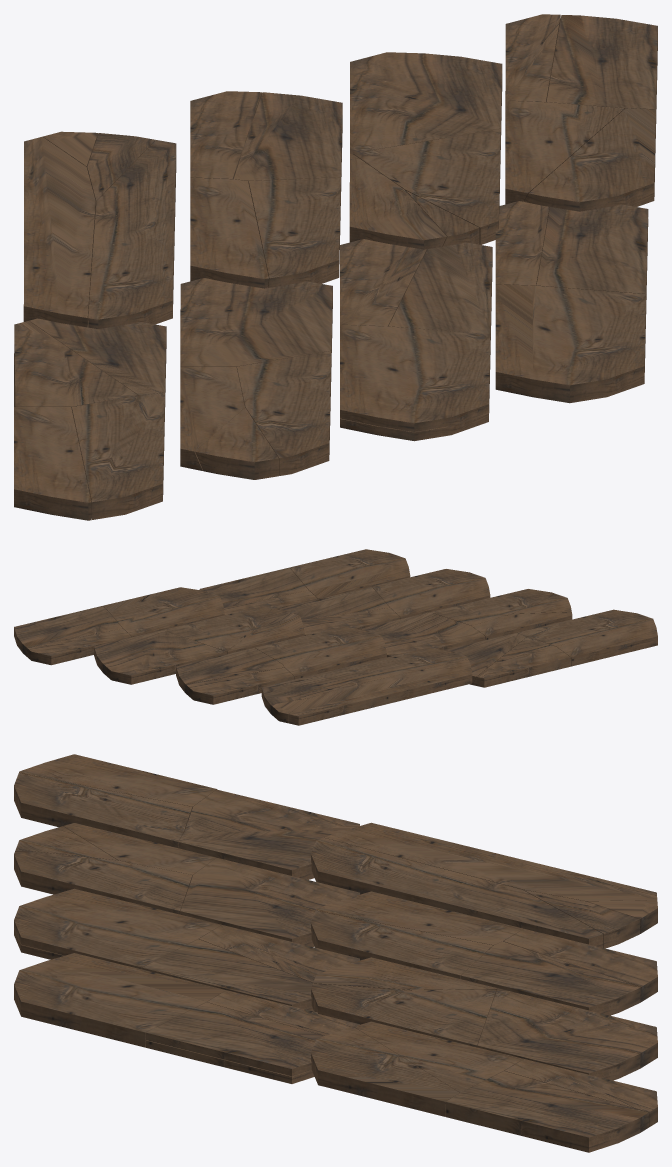
Rendered from BreakableFloorFracture.fbx.
3 views of the same model, one above another, from view 1: azimuth 30°, elevation 25°; view 2: azimuth 150°, elevation 25°; view 3: azimuth 270°, elevation 25° (orthographic). The views are drawn at different scales.
Visible parts, largest first — view 1: WoodenPlank__16__cell.001, WoodenPlank__15__cell.003, WoodenPlank__21__cell.003, WoodenPlank__18__cell.002, WoodenPlank__14__cell, WoodenPlank__21__cell, WoodenPlank__20__cell.002, WoodenPlank__19__cell.001, WoodenPlank__18__cell, WoodenPlank__16__cell.003, WoodenPlank__17__cell, WoodenPlank__14__cell.002 (+19 smaller); view 2: WoodenPlank__21__cell, WoodenPlank__18__cell.002, WoodenPlank__16__cell.001, WoodenPlank__15__cell.003, WoodenPlank__21__cell.003, WoodenPlank__14__cell, WoodenPlank__19__cell.001, WoodenPlank__20__cell.003, WoodenPlank__20__cell, WoodenPlank__18__cell, WoodenPlank__17__cell.003, WoodenPlank__16__cell.003 (+18 smaller); view 3: WoodenPlank__16__cell.001, WoodenPlank__21__cell.003, WoodenPlank__18__cell.002, WoodenPlank__15__cell.003, WoodenPlank__19__cell.001, WoodenPlank__14__cell, WoodenPlank__21__cell, WoodenPlank__20__cell.002, WoodenPlank__16__cell.003, WoodenPlank__19__cell, WoodenPlank__17__cell.003, WoodenPlank__18__cell (+19 smaller).
Boxes of the visible parts, left/top/right/bottom form: WoodenPlank__16__cell.001: left=495, top=284, right=646, bottom=403; WoodenPlank__15__cell.003: left=340, top=324, right=490, bottom=431; WoodenPlank__21__cell.003: left=88, top=140, right=176, bottom=328; WoodenPlank__18__cell.002: left=350, top=52, right=502, bottom=153; WoodenPlank__14__cell: left=180, top=278, right=332, bottom=371; WoodenPlank__21__cell: left=23, top=136, right=95, bottom=327; WoodenPlank__20__cell.002: left=72, top=392, right=164, bottom=519; WoodenPlank__19__cell.001: left=546, top=15, right=657, bottom=123; WoodenPlank__18__cell: left=353, top=129, right=500, bottom=244; WoodenPlank__16__cell.003: left=536, top=204, right=648, bottom=293; WoodenPlank__17__cell: left=248, top=177, right=340, bottom=287; WoodenPlank__14__cell.002: left=237, top=351, right=331, bottom=475; WoodenPlank__21__cell: left=289, top=659, right=472, bottom=725; WoodenPlank__18__cell.002: left=94, top=630, right=227, bottom=684; WoodenPlank__16__cell.001: left=290, top=549, right=410, bottom=599; WoodenPlank__15__cell.003: left=372, top=569, right=490, bottom=618; WoodenPlank__21__cell.003: left=261, top=647, right=468, bottom=700; WoodenPlank__14__cell: left=361, top=612, right=485, bottom=657; WoodenPlank__19__cell.001: left=14, top=606, right=122, bottom=656; WoodenPlank__20__cell.003: left=473, top=637, right=570, bottom=687; WoodenPlank__20__cell: left=557, top=618, right=657, bottom=666; WoodenPlank__18__cell: left=163, top=606, right=271, bottom=651; WoodenPlank__17__cell.003: left=176, top=647, right=284, bottom=691; WoodenPlank__16__cell.003: left=199, top=567, right=308, bottom=607; WoodenPlank__16__cell.001: left=14, top=953, right=225, bottom=1047; WoodenPlank__21__cell.003: left=311, top=837, right=603, bottom=947; WoodenPlank__18__cell.002: left=477, top=988, right=657, bottom=1080; WoodenPlank__15__cell.003: left=14, top=888, right=221, bottom=969; WoodenPlank__19__cell.001: left=445, top=1071, right=648, bottom=1152; WoodenPlank__14__cell: left=180, top=858, right=359, bottom=946; WoodenPlank__21__cell: left=324, top=822, right=657, bottom=901; WoodenPlank__20__cell.002: left=14, top=773, right=192, bottom=848; WoodenPlank__16__cell.003: left=145, top=1002, right=323, bottom=1076; WoodenPlank__19__cell: left=311, top=1026, right=459, bottom=1116; WoodenPlank__17__cell.003: left=461, top=941, right=640, bottom=1015; WoodenPlank__18__cell: left=314, top=989, right=496, bottom=1047.
Size of the model in its own units: 380 by 10.44 by 264.
